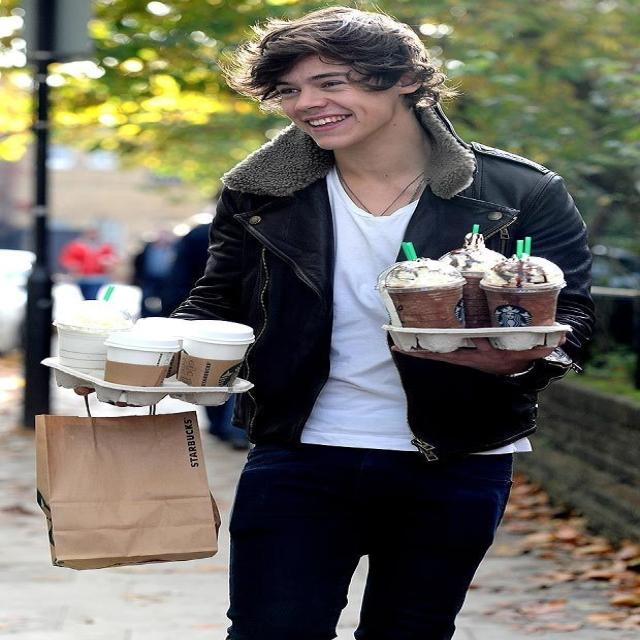starbucks: (487, 304, 535, 328)
